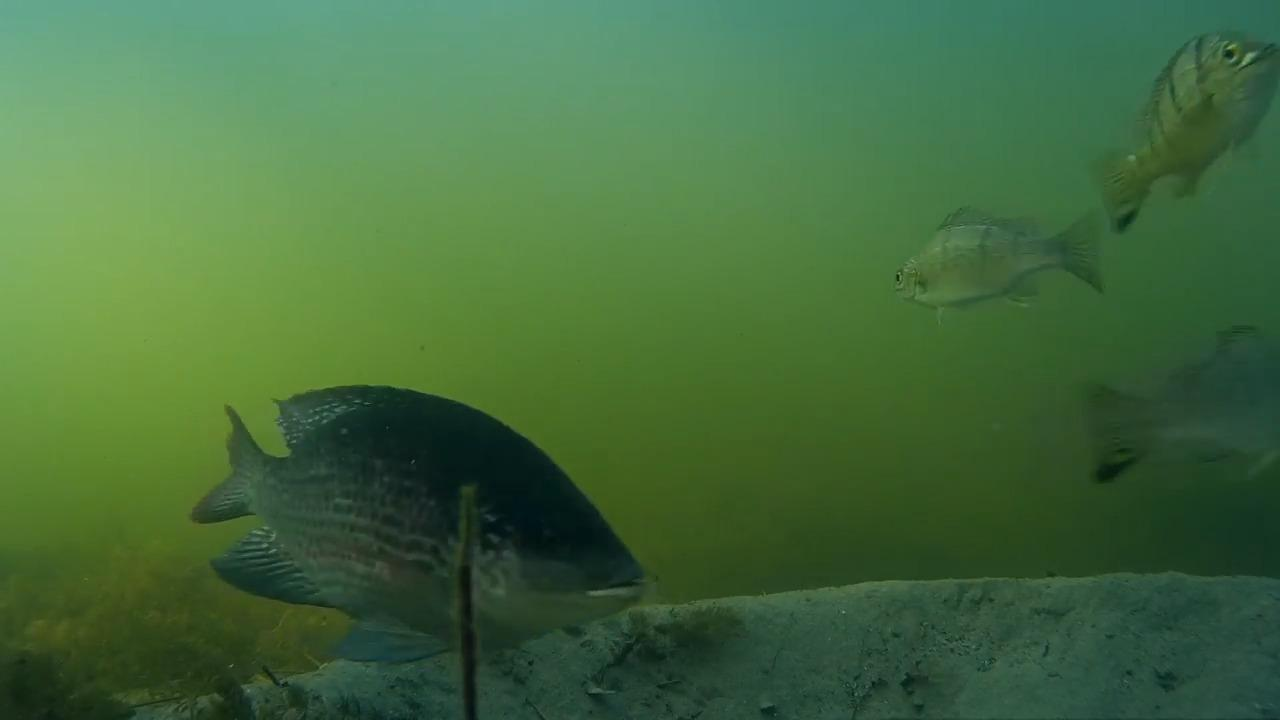Tilapia: (187, 380, 650, 674), (1077, 282, 1280, 520), (1071, 4, 1280, 234), (899, 202, 1116, 326)
